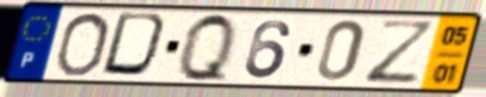0: (314, 17, 368, 85)
6: (243, 18, 293, 80)
D: (97, 10, 175, 81)
O: (52, 10, 114, 79)
Q: (176, 10, 238, 86)
Z: (361, 17, 440, 87)
